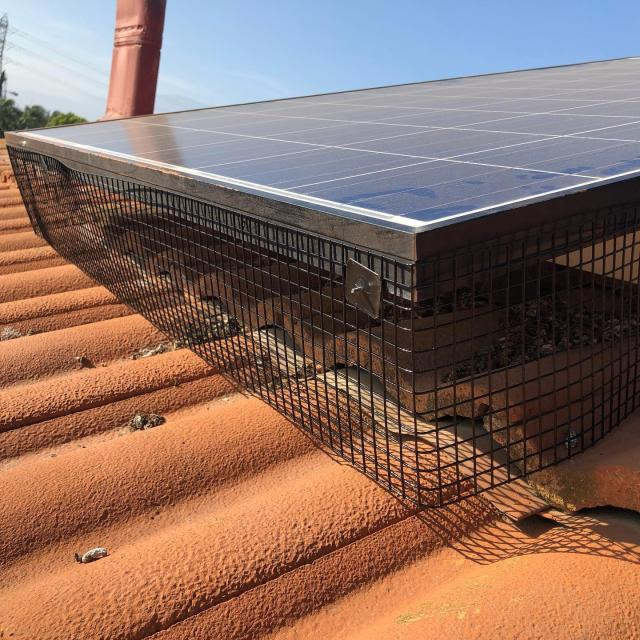dust-solar-panel: (7, 51, 638, 235)
